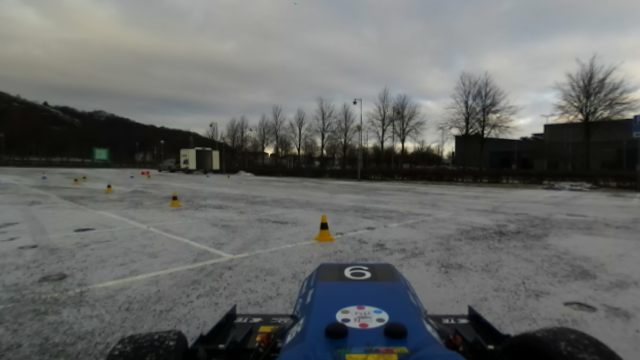yellow: (313, 213, 334, 244)
